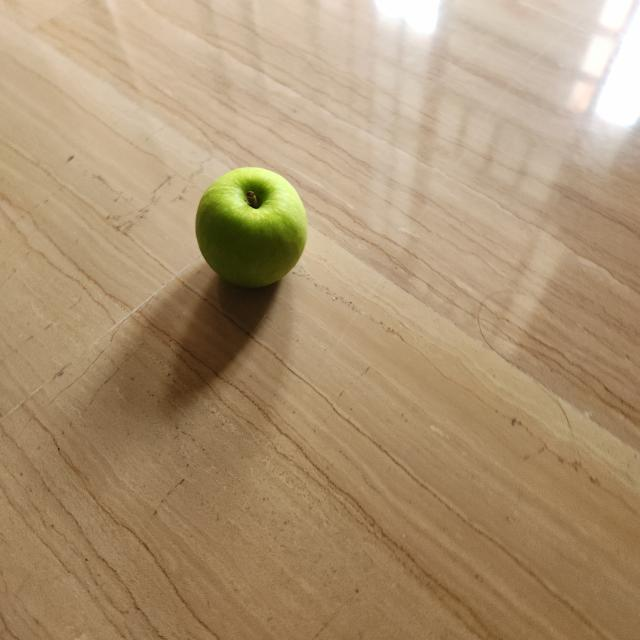apple: (192, 160, 310, 300)
